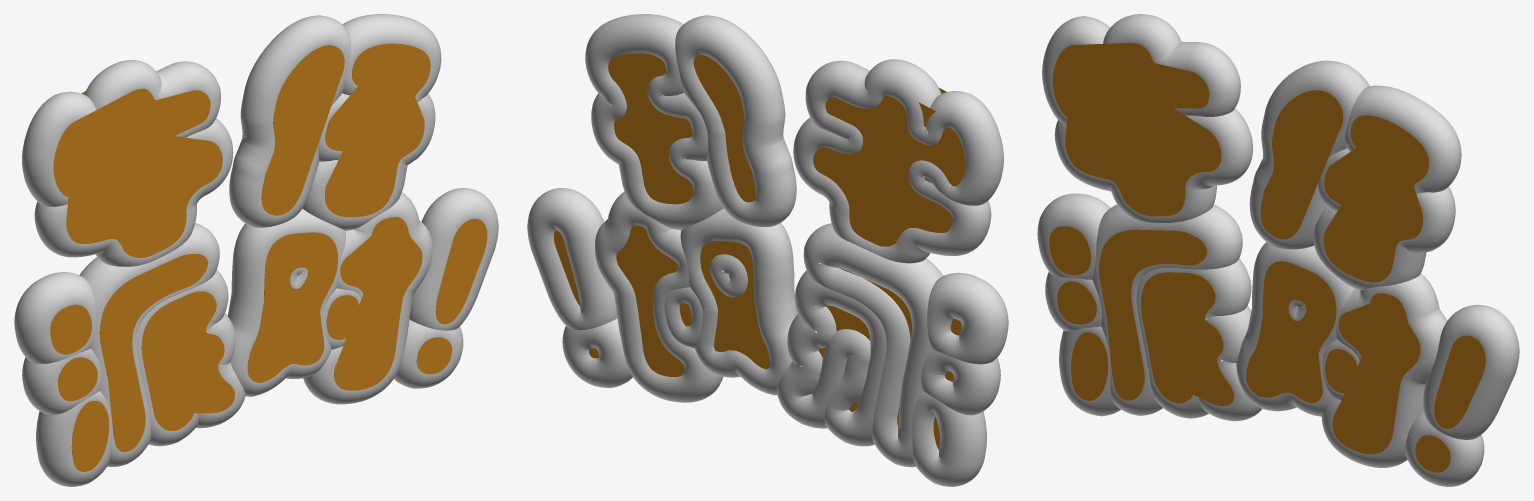
Rendered from 牛仔派对！.fbx.
3 views of the same model, side by side, from view 1: azimuth 30°, elevation 25°; view 2: azimuth 150°, elevation 25°; view 3: azimuth 330°, elevation 25° (orthographic).
Parts seen in each view (by area): view 1: 派, 牛, 仔, 扫描_2, 对, 扫描_1, 扫描, 扫描_3, 扫描_4, ！; view 2: 扫描_2, 扫描_1, 扫描_3, 扫描, 牛, 扫描_4, 仔, 对, 派, ！; view 3: 派, 牛, 仔, 对, 扫描_2, 扫描_1, 扫描, 扫描_3, 扫描_4, ！.
Boxes of the visible parts, left/top/right/bottom form: 派: left=50, top=253, right=234, bottom=471; 牛: left=53, top=88, right=222, bottom=257; 仔: left=261, top=43, right=430, bottom=217; 扫描_2: left=14, top=223, right=245, bottom=486; 对: left=247, top=217, right=422, bottom=390; 扫描_1: left=229, top=14, right=441, bottom=230; 扫描: left=22, top=60, right=233, bottom=266; 扫描_3: left=227, top=192, right=432, bottom=404; 扫描_4: left=394, top=188, right=498, bottom=388; ！: left=416, top=218, right=487, bottom=374; 扫描_2: left=777, top=223, right=1008, bottom=486; 扫描_1: left=585, top=14, right=796, bottom=229; 扫描_3: left=595, top=191, right=798, bottom=402; 扫描: left=793, top=59, right=1003, bottom=263; 牛: left=813, top=88, right=965, bottom=246; 扫描_4: left=527, top=188, right=632, bottom=387; 仔: left=608, top=53, right=755, bottom=204; 对: left=616, top=225, right=770, bottom=376; 派: left=811, top=268, right=961, bottom=449; ！: left=554, top=230, right=598, bottom=358; 派: left=1049, top=226, right=1234, bottom=406; 牛: left=1052, top=42, right=1221, bottom=216; 仔: left=1260, top=90, right=1428, bottom=282; 对: left=1246, top=261, right=1420, bottom=454; 扫描_2: left=1037, top=193, right=1261, bottom=421; 扫描_1: left=1249, top=60, right=1461, bottom=290; 扫描: left=1042, top=14, right=1252, bottom=222; 扫描_3: left=1236, top=242, right=1447, bottom=467; 扫描_4: left=1405, top=304, right=1519, bottom=486; ！: left=1415, top=335, right=1485, bottom=472.
Bounding box in the file's own units: 553 × 454 × 48.7.
